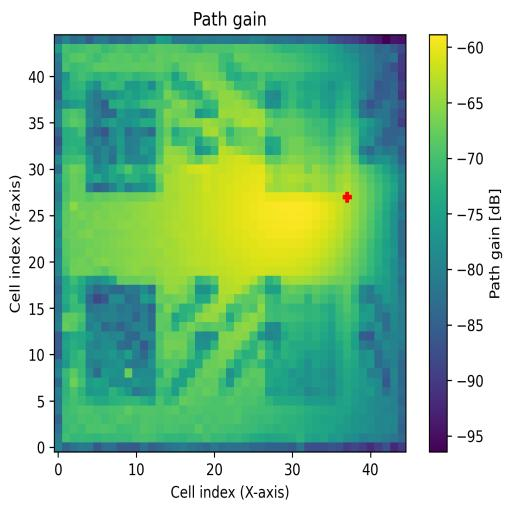Concrete: (266, 72, 342, 190)
Glass: (87, 71, 156, 192)
Metal: (267, 284, 352, 404)
Wood: (85, 284, 156, 404)
